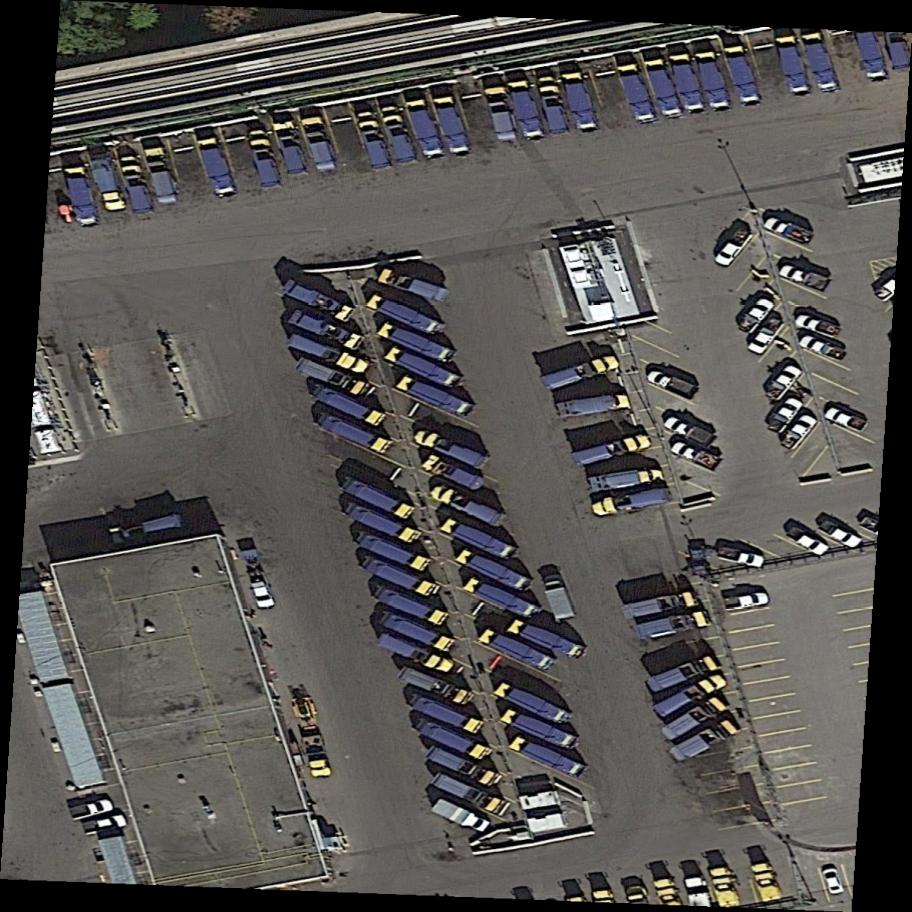large-vehicle: (357, 554, 442, 602), (453, 546, 535, 595), (462, 576, 544, 624), (477, 627, 558, 675), (508, 734, 589, 782), (293, 356, 377, 402), (429, 483, 509, 531), (440, 516, 520, 564), (493, 680, 573, 728), (499, 707, 582, 753), (396, 374, 477, 421), (412, 717, 495, 762), (430, 771, 511, 817), (375, 631, 457, 676), (342, 501, 422, 547), (371, 583, 451, 629), (424, 744, 504, 790), (366, 293, 446, 339), (652, 672, 727, 721), (507, 617, 588, 662), (377, 321, 457, 366), (316, 411, 394, 457), (384, 345, 462, 391), (667, 717, 740, 766), (288, 333, 370, 376), (353, 530, 433, 574), (377, 610, 457, 654), (396, 664, 476, 708), (659, 694, 728, 745), (413, 427, 491, 472), (311, 383, 386, 429), (288, 309, 366, 353), (339, 476, 415, 521), (281, 278, 356, 323), (406, 693, 485, 735), (541, 352, 620, 392), (419, 451, 488, 494), (589, 485, 673, 520), (571, 433, 652, 469), (377, 266, 451, 305), (646, 655, 718, 695), (723, 43, 763, 111), (433, 94, 473, 161), (617, 61, 657, 128), (197, 134, 237, 200), (406, 97, 445, 163), (644, 57, 683, 122), (669, 51, 707, 117), (561, 69, 598, 136), (803, 30, 840, 96), (695, 48, 732, 114), (853, 24, 892, 86), (635, 611, 711, 642), (776, 34, 812, 99), (430, 797, 491, 835), (623, 591, 700, 621), (89, 151, 125, 215), (509, 78, 544, 143), (380, 103, 416, 166), (144, 145, 179, 208), (248, 127, 283, 190), (301, 114, 337, 175), (356, 109, 391, 171), (65, 165, 98, 229), (120, 154, 154, 216), (557, 392, 630, 420), (538, 75, 570, 137), (486, 84, 519, 144), (274, 119, 307, 177), (589, 468, 663, 493), (749, 859, 786, 908), (707, 863, 744, 912), (542, 572, 576, 623), (883, 26, 912, 70)
small-vehicle: (709, 219, 758, 274), (742, 308, 791, 361), (795, 326, 852, 368), (644, 364, 702, 404), (776, 409, 821, 458), (763, 389, 808, 438), (762, 359, 806, 407), (666, 438, 724, 474), (776, 260, 834, 296), (661, 413, 719, 448), (761, 213, 819, 248), (814, 516, 866, 554), (783, 523, 835, 561), (793, 306, 846, 343), (735, 292, 778, 337), (820, 403, 871, 436), (719, 588, 774, 615), (714, 545, 770, 571), (69, 796, 115, 824), (247, 575, 279, 615), (80, 812, 127, 838), (303, 743, 332, 782), (821, 865, 847, 898)
